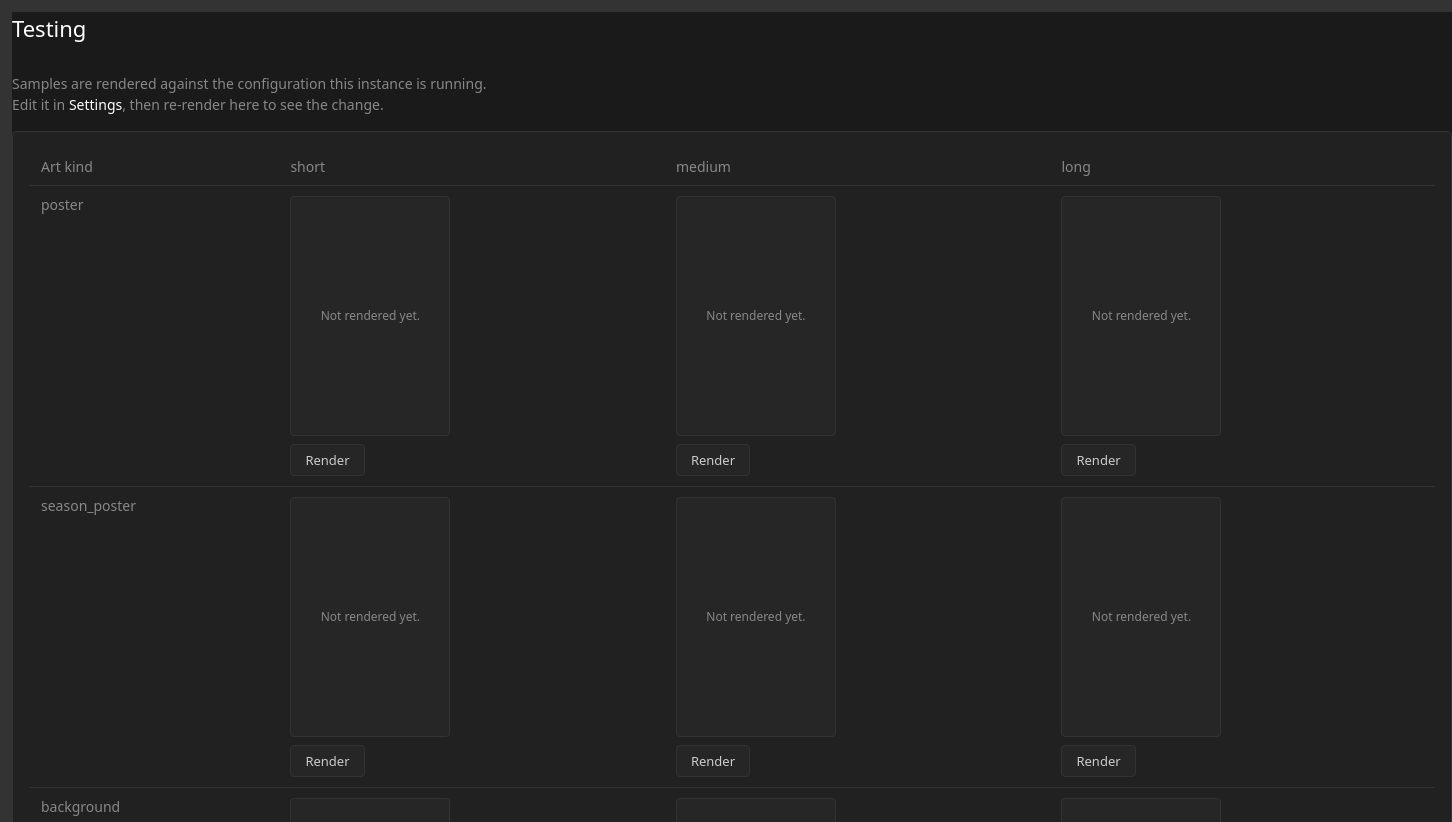
Testing › shows the server's message when a render fails
The width and height of the screenshot is (1452, 822).
Click the 1st button "Render" at (328, 460), box [290, 444, 365, 476]
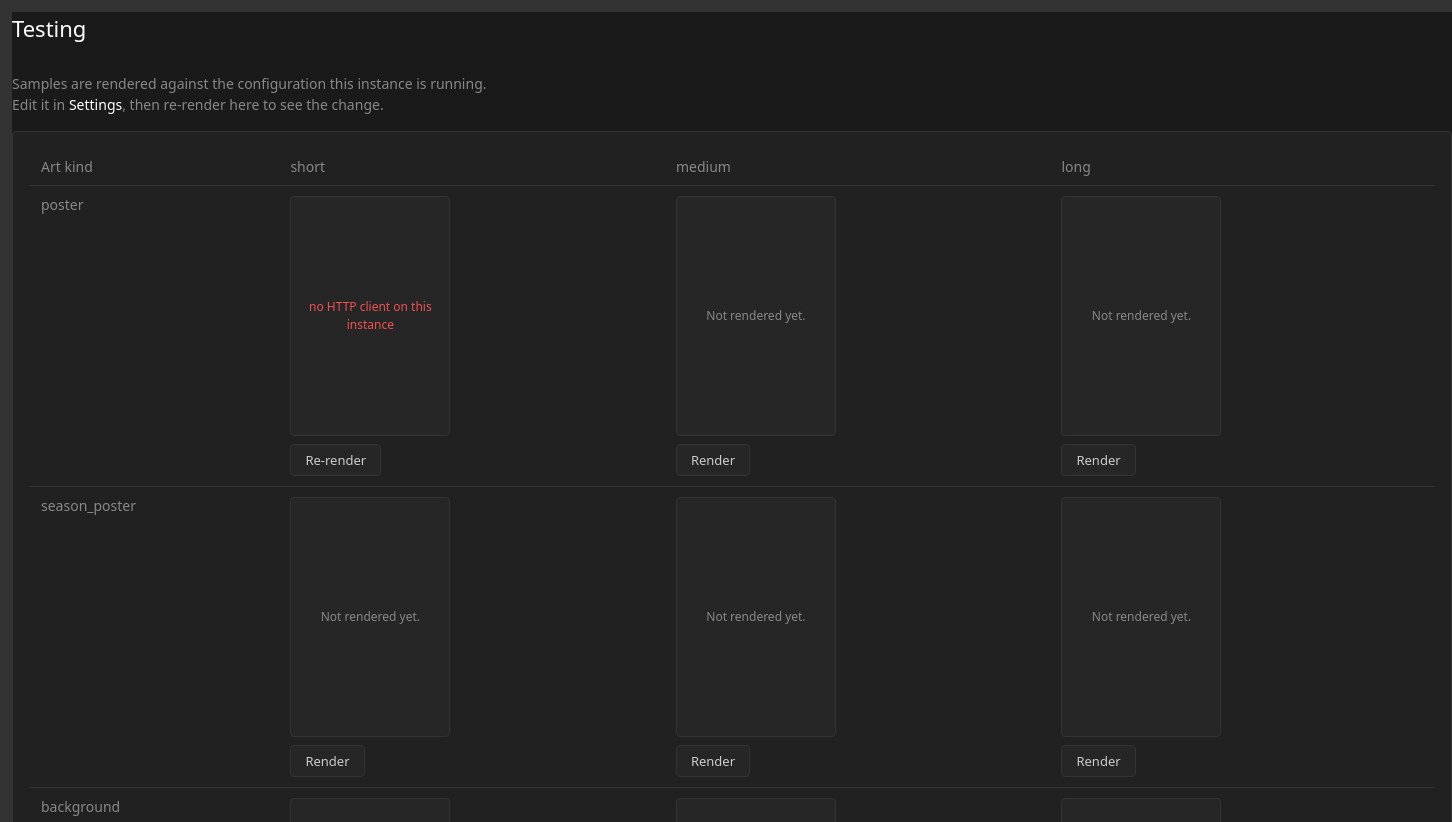
Expected: the text "no HTTP client on this instance" is shown, [303, 298, 437, 334]
Expected: the text with class "sample-error" reads "no HTTP client on this instance", [309, 298, 432, 333]
